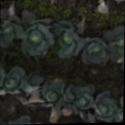cabbage: (98, 97, 113, 115), (26, 29, 42, 43), (0, 21, 14, 35), (112, 33, 124, 47), (87, 42, 103, 52), (5, 74, 18, 86), (59, 30, 71, 43), (45, 89, 57, 101), (75, 96, 86, 109), (115, 109, 123, 122)
